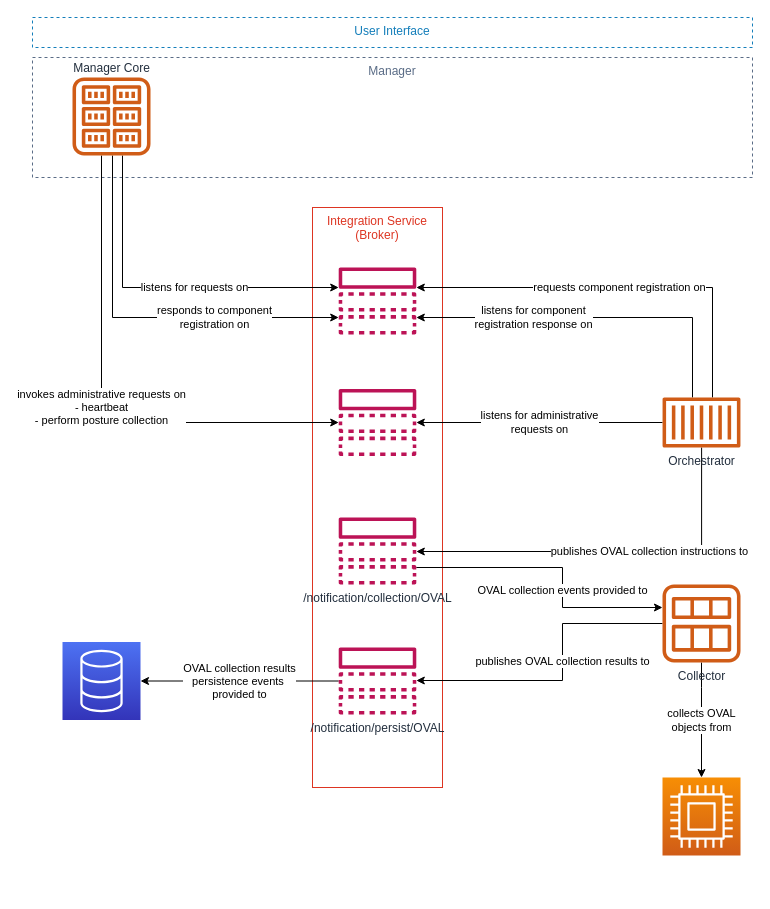
This 770x909 diagram has some shape labels left out. The centre of each missing label's shape, as x and y in pixels:
"/action/manager/component/registration" goes at (x=377, y=300).
"/action/manager/UUID" goes at (x=377, y=422).
"Computing Resource" goes at (x=701, y=816).
"Repository" goes at (x=101, y=680).
